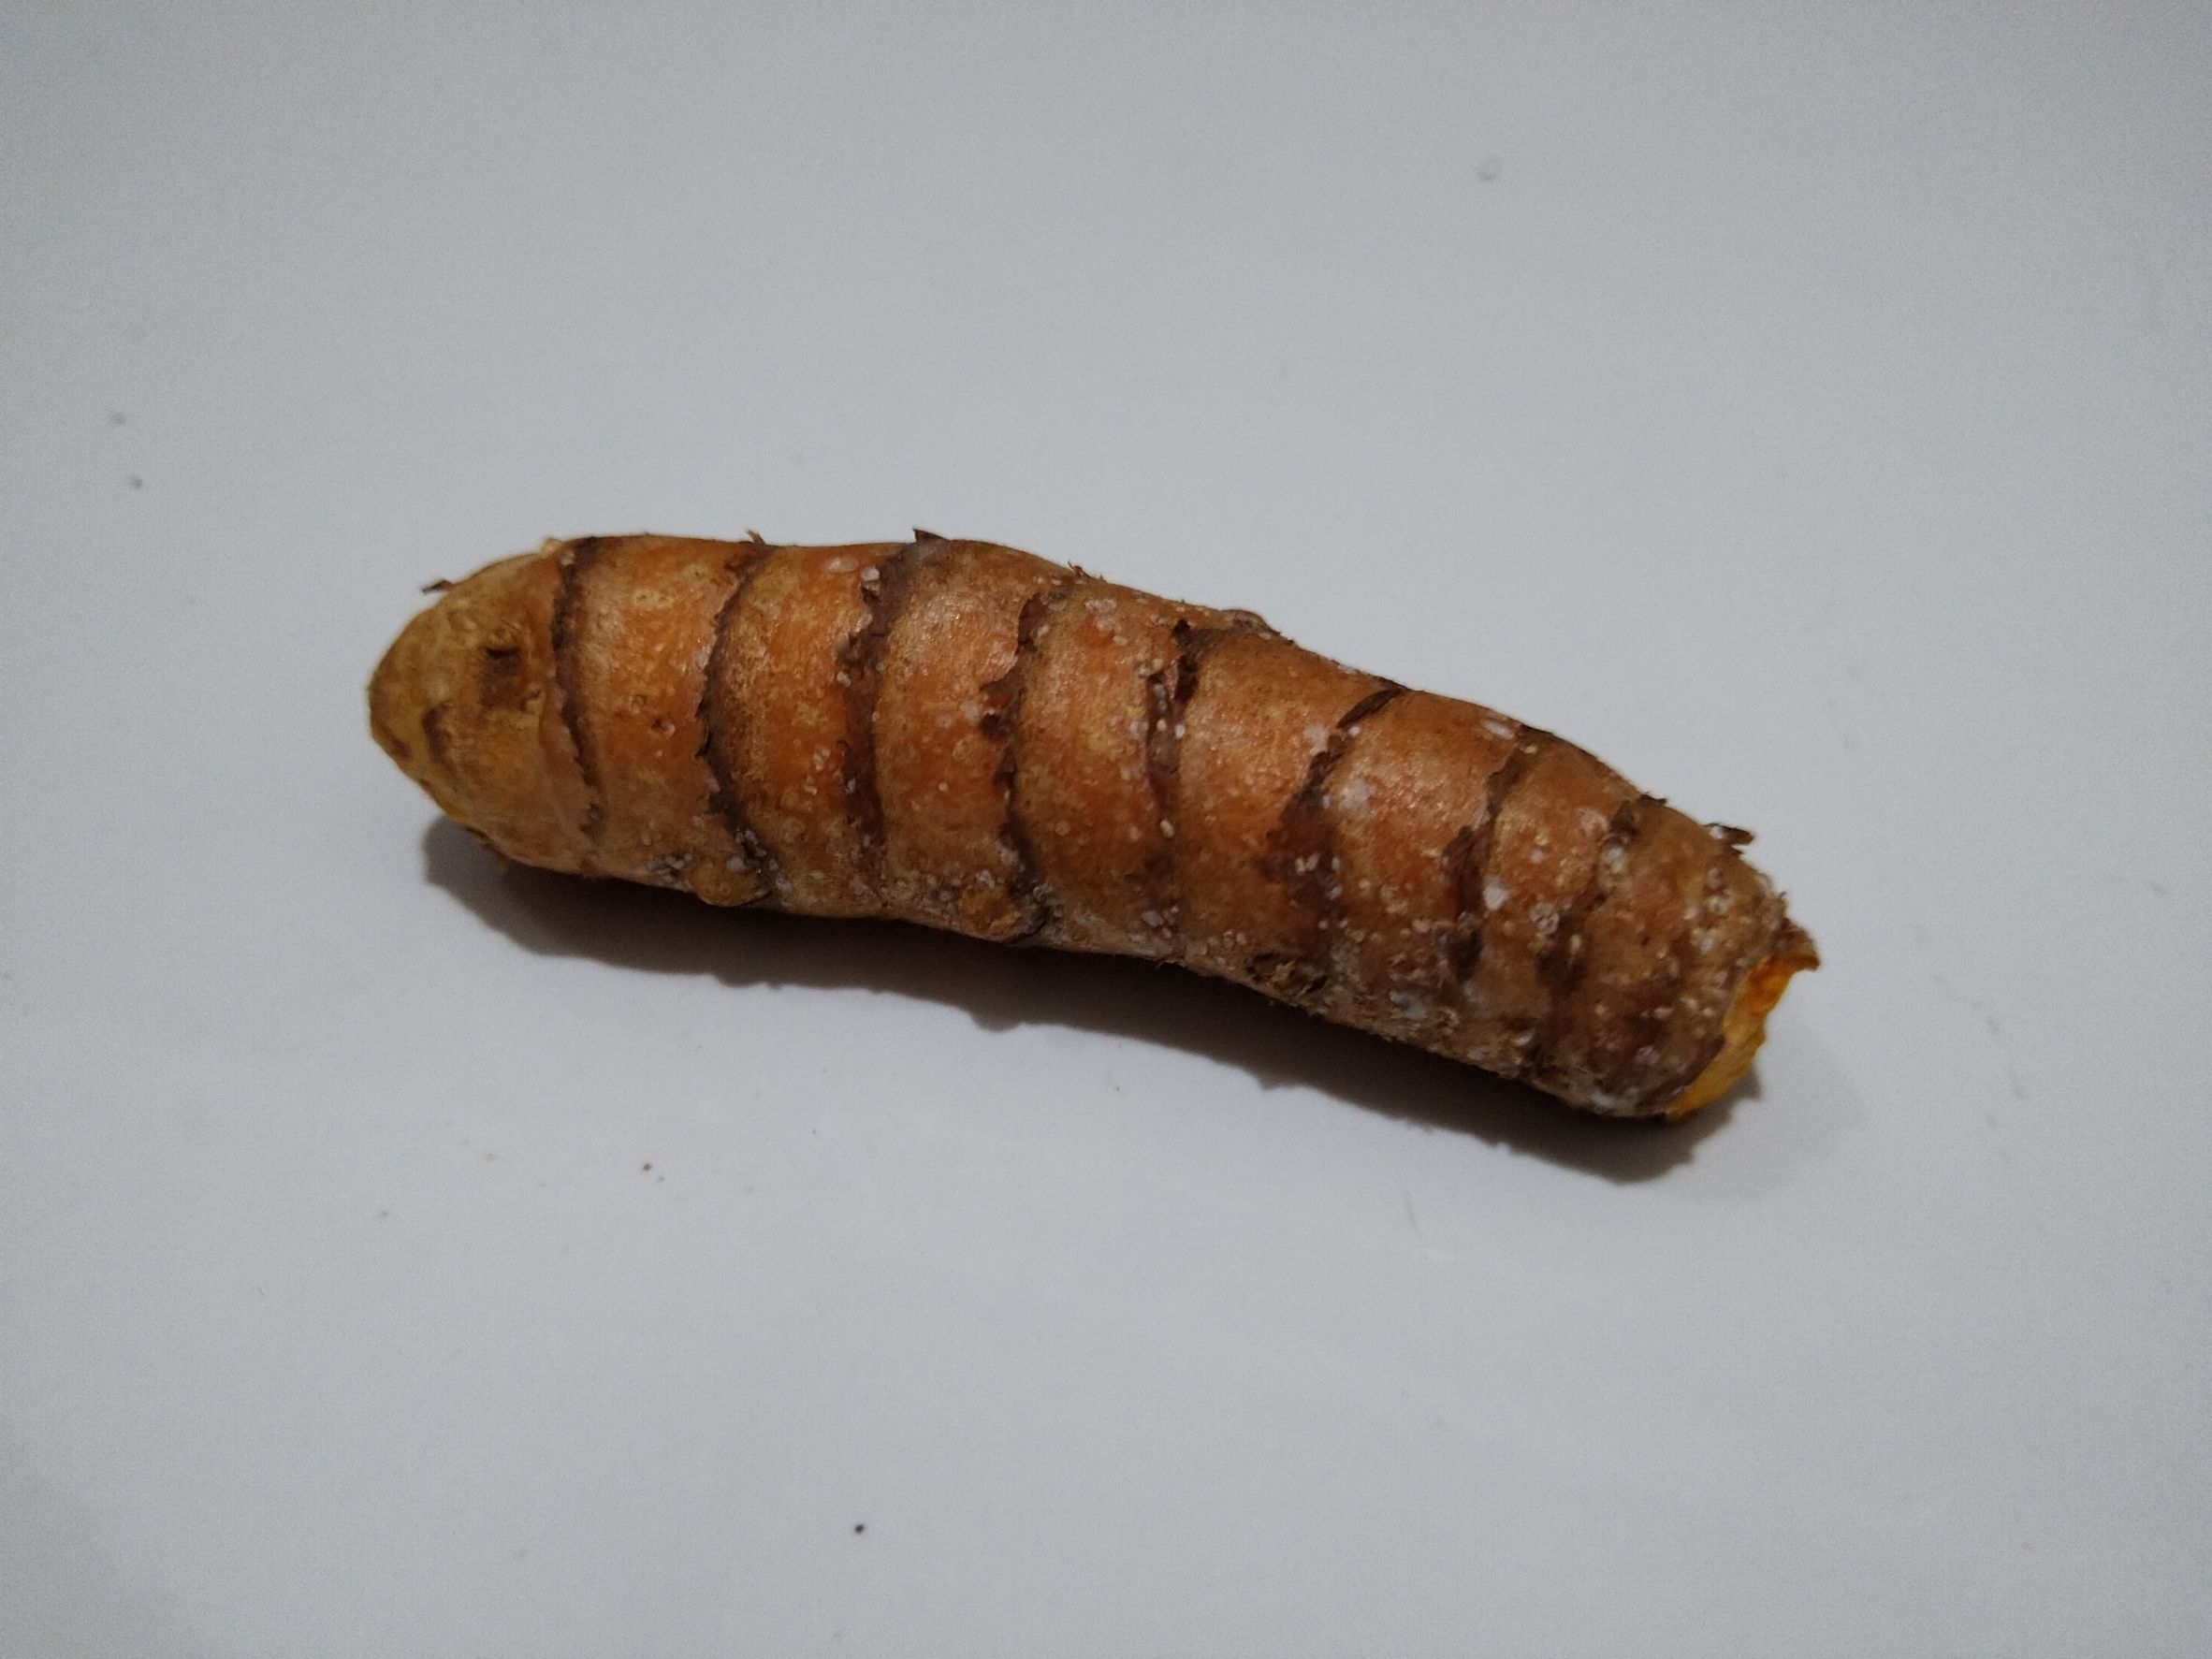Kunyit: (392, 549, 1803, 1223)
